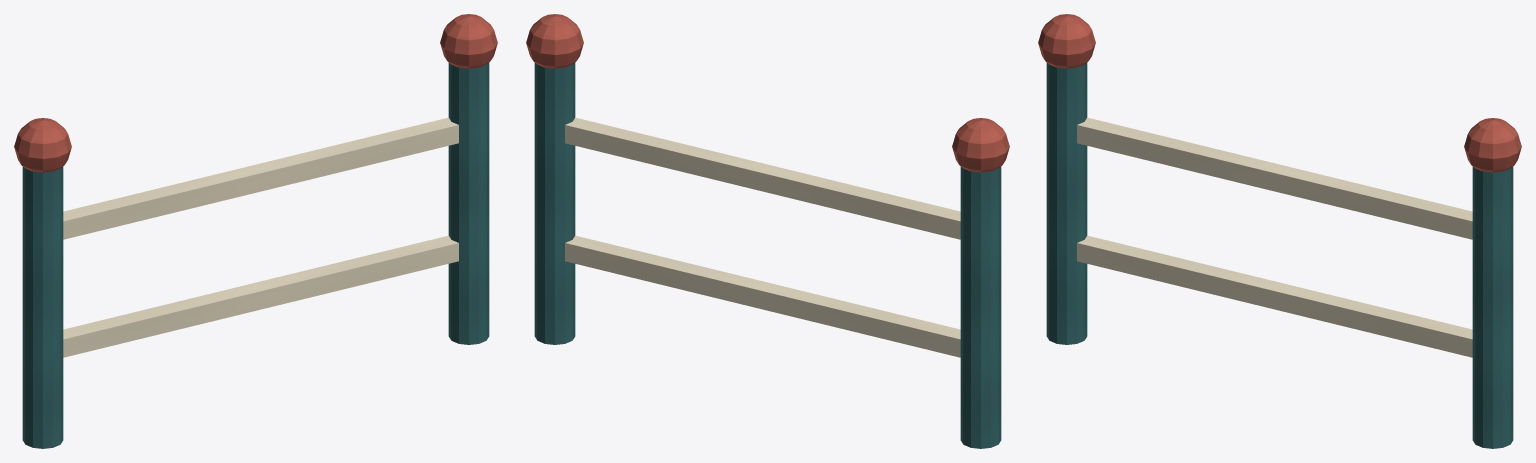
Rendered from atlas100-porcelain-util04.glb.
The picture shows the model from 3 angles, left to right: view 1: azimuth 30°, elevation 25°; view 2: azimuth 150°, elevation 25°; view 3: azimuth 330°, elevation 25°; orthographic projection.
Parts seen in each view (by area): view 1: atlas100-porcelain-util04:part-000, atlas100-porcelain-util04:part-004, atlas100-porcelain-util04:part-005, atlas100-porcelain-util04:part-002, atlas100-porcelain-util04:part-003, atlas100-porcelain-util04:part-001; view 2: atlas100-porcelain-util04:part-000, atlas100-porcelain-util04:part-004, atlas100-porcelain-util04:part-005, atlas100-porcelain-util04:part-002, atlas100-porcelain-util04:part-003, atlas100-porcelain-util04:part-001; view 3: atlas100-porcelain-util04:part-002, atlas100-porcelain-util04:part-004, atlas100-porcelain-util04:part-005, atlas100-porcelain-util04:part-000, atlas100-porcelain-util04:part-001, atlas100-porcelain-util04:part-003.
Boxes of the visible parts, bbox=[...] form: atlas100-porcelain-util04:part-000: bbox=[22, 166, 63, 448]; atlas100-porcelain-util04:part-004: bbox=[63, 235, 458, 357]; atlas100-porcelain-util04:part-005: bbox=[63, 117, 458, 239]; atlas100-porcelain-util04:part-002: bbox=[448, 62, 489, 344]; atlas100-porcelain-util04:part-003: bbox=[440, 14, 497, 68]; atlas100-porcelain-util04:part-001: bbox=[14, 118, 71, 172]; atlas100-porcelain-util04:part-000: bbox=[960, 166, 1001, 448]; atlas100-porcelain-util04:part-004: bbox=[565, 235, 960, 357]; atlas100-porcelain-util04:part-005: bbox=[565, 117, 960, 239]; atlas100-porcelain-util04:part-002: bbox=[534, 62, 575, 344]; atlas100-porcelain-util04:part-003: bbox=[526, 14, 583, 68]; atlas100-porcelain-util04:part-001: bbox=[952, 118, 1009, 172]; atlas100-porcelain-util04:part-002: bbox=[1472, 166, 1513, 448]; atlas100-porcelain-util04:part-004: bbox=[1077, 235, 1472, 357]; atlas100-porcelain-util04:part-005: bbox=[1077, 117, 1472, 239]; atlas100-porcelain-util04:part-000: bbox=[1046, 62, 1087, 344]; atlas100-porcelain-util04:part-001: bbox=[1038, 14, 1095, 68]; atlas100-porcelain-util04:part-003: bbox=[1464, 118, 1521, 172].
Size of the model in its own units: 1.94 by 1.25 by 0.2046.
3 materials, 3 textured.
